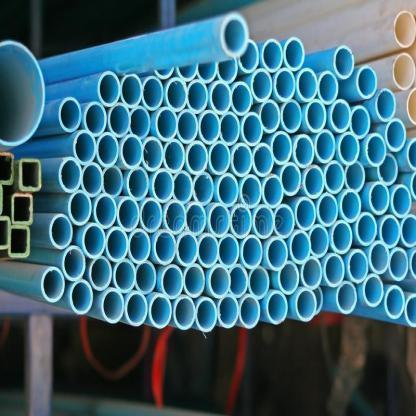pipe: (0, 41, 46, 146), (220, 11, 248, 58), (392, 53, 416, 91), (68, 190, 92, 226), (41, 267, 65, 303), (82, 224, 106, 259), (70, 280, 94, 315), (98, 71, 121, 107), (59, 97, 82, 133), (84, 101, 107, 137), (73, 130, 96, 166), (154, 230, 177, 266), (63, 246, 86, 282), (101, 288, 124, 324), (108, 103, 131, 138), (127, 166, 150, 201), (152, 168, 175, 203), (94, 194, 117, 229), (140, 198, 163, 233), (50, 214, 73, 249), (106, 227, 129, 262), (176, 232, 199, 267), (89, 256, 112, 291), (113, 259, 136, 294), (125, 292, 148, 327), (149, 294, 172, 329), (394, 10, 415, 48), (59, 157, 81, 193), (218, 233, 240, 269), (166, 78, 189, 112), (183, 264, 206, 298), (209, 264, 232, 298), (173, 297, 196, 331), (142, 76, 164, 111), (241, 112, 263, 147), (97, 132, 119, 167), (121, 133, 143, 168), (252, 142, 274, 177), (117, 197, 139, 232), (165, 200, 187, 235), (230, 204, 252, 239), (129, 229, 151, 264), (161, 264, 183, 299), (218, 294, 240, 329), (196, 297, 218, 332), (296, 68, 318, 102), (120, 74, 142, 108), (187, 80, 209, 114), (156, 107, 178, 141), (177, 110, 199, 144), (271, 131, 293, 165), (338, 132, 360, 166), (186, 141, 208, 175), (217, 173, 239, 207), (295, 197, 317, 231), (253, 206, 275, 240), (379, 215, 401, 249), (266, 237, 288, 271), (278, 261, 300, 295), (135, 261, 157, 295), (248, 266, 270, 300), (295, 288, 317, 322), (266, 291, 288, 325), (283, 37, 305, 71), (262, 39, 284, 73), (275, 68, 296, 103), (318, 70, 339, 105), (199, 110, 220, 145), (142, 136, 163, 171), (82, 163, 103, 198), (173, 170, 194, 205), (262, 174, 283, 209), (241, 174, 262, 209), (340, 188, 361, 223), (274, 204, 295, 239), (198, 233, 219, 268), (242, 235, 263, 270), (210, 81, 232, 114), (385, 118, 407, 151), (324, 255, 346, 288), (301, 257, 323, 290), (252, 69, 273, 103), (231, 82, 252, 116), (306, 99, 327, 133), (350, 106, 371, 140), (130, 106, 151, 140), (220, 112, 241, 146), (315, 130, 336, 164), (366, 133, 387, 167), (293, 135, 314, 169), (164, 139, 185, 173), (209, 141, 230, 175), (324, 160, 345, 194), (281, 162, 302, 196), (304, 165, 325, 199), (317, 193, 338, 227), (186, 202, 207, 236), (209, 204, 230, 238), (356, 213, 377, 247), (332, 220, 353, 254), (290, 231, 311, 265), (369, 241, 390, 275), (348, 250, 369, 284), (363, 274, 384, 308), (336, 281, 357, 315), (384, 285, 405, 319), (240, 295, 261, 329), (238, 40, 259, 74), (334, 45, 355, 79), (357, 66, 378, 99), (375, 89, 396, 122), (330, 100, 351, 133), (260, 100, 281, 133), (281, 100, 302, 133), (232, 144, 253, 177), (193, 172, 214, 205), (369, 182, 390, 215), (309, 225, 329, 259), (389, 248, 409, 282), (229, 264, 249, 298), (377, 154, 398, 186), (102, 166, 123, 198), (392, 185, 412, 218), (345, 161, 366, 192), (217, 58, 238, 84), (401, 214, 416, 249), (404, 293, 416, 327), (406, 137, 415, 172), (296, 102, 297, 103)
